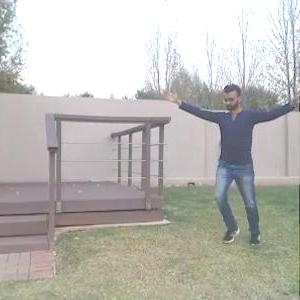takeoff: (156, 83, 298, 242)
